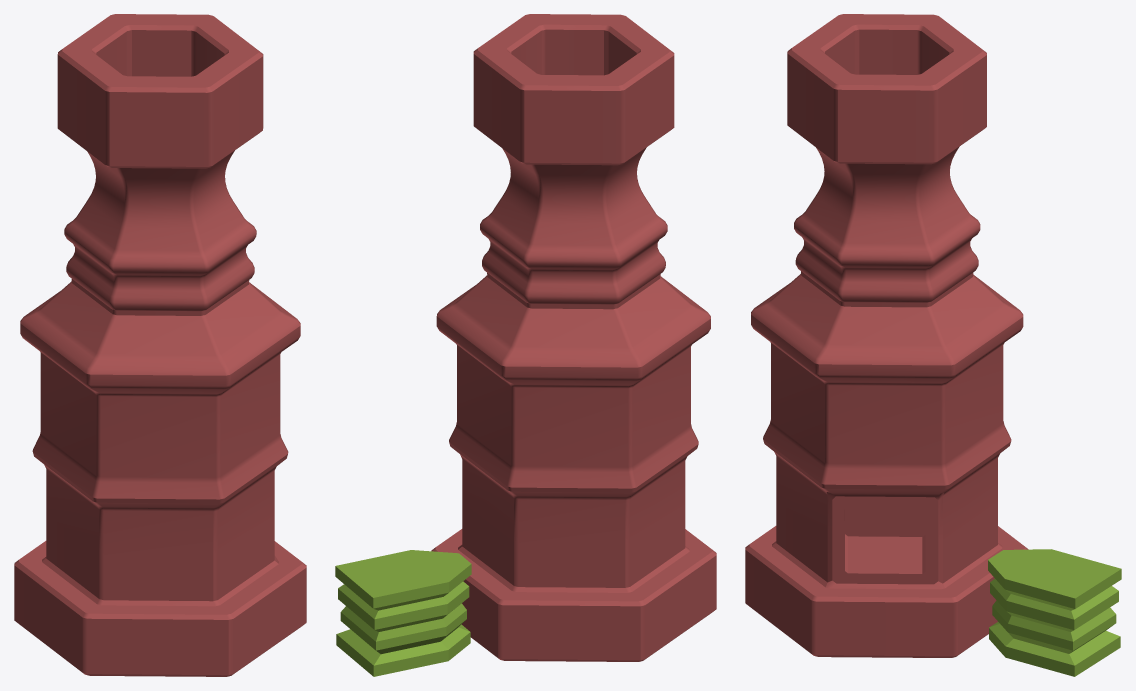
Rendered from Oven_LP.fbx.
The picture shows the model from 3 angles, left to right: view 1: azimuth 30°, elevation 25°; view 2: azimuth 150°, elevation 25°; view 3: azimuth 270°, elevation 25°; orthographic projection. The views are drawn at different scales.
Parts seen in each view (by area): view 1: Oven1; view 2: Oven1, Blower; view 3: Oven1, Blower.
Part boxes in pixels (<box>): Oven1: <box>14,14,306,676</box>; Oven1: <box>431,14,716,661</box>; Blower: <box>335,550,471,676</box>; Oven1: <box>745,14,1028,657</box>; Blower: <box>988,549,1121,676</box>.
Bounding box in the file's own units: 86.38 × 183 × 112.
